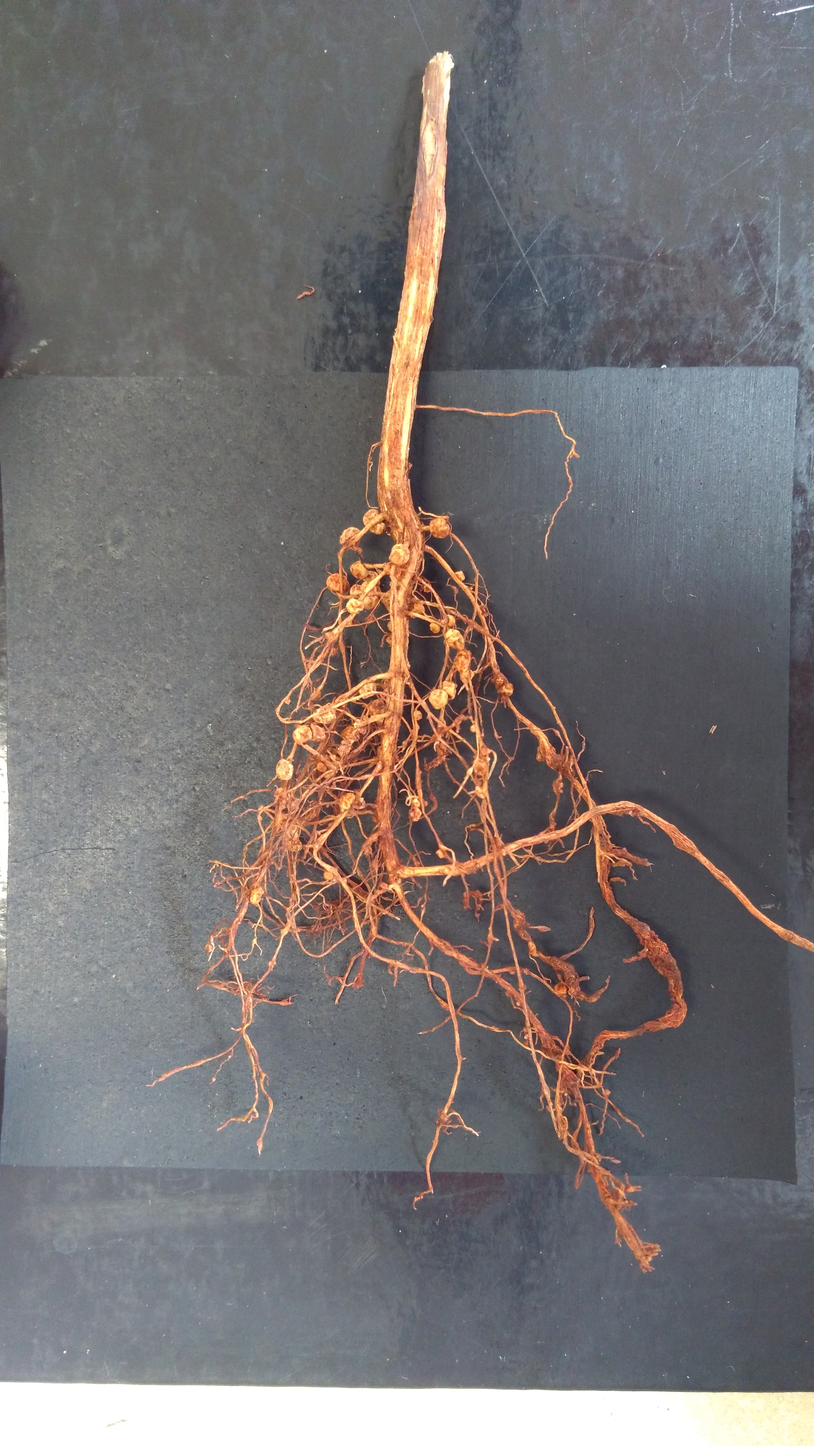nodule: (363, 509, 386, 534), (491, 671, 513, 696), (312, 703, 336, 723), (340, 527, 360, 550), (361, 582, 378, 609), (389, 544, 410, 565), (444, 628, 464, 649), (429, 518, 449, 538), (369, 699, 385, 724), (292, 725, 312, 744), (276, 759, 294, 780), (326, 574, 349, 590), (429, 690, 448, 709), (439, 681, 457, 700), (341, 725, 360, 743), (536, 745, 556, 762), (455, 650, 471, 671), (408, 597, 424, 618), (305, 800, 321, 821), (350, 561, 368, 579), (339, 792, 355, 809), (359, 683, 376, 699), (311, 724, 326, 742), (346, 598, 364, 613), (316, 754, 330, 772), (250, 887, 264, 904), (363, 571, 380, 585), (338, 740, 352, 756), (354, 719, 368, 735), (295, 716, 315, 727), (459, 669, 474, 683), (361, 581, 376, 595), (286, 824, 299, 840), (287, 798, 300, 814), (474, 761, 488, 775), (408, 807, 421, 821), (554, 981, 567, 994), (288, 839, 302, 851), (552, 778, 563, 793), (350, 584, 365, 595), (353, 797, 366, 809), (413, 797, 428, 807), (475, 786, 487, 798), (324, 632, 338, 642), (429, 622, 440, 634), (280, 819, 291, 831), (273, 787, 283, 799), (436, 848, 447, 858), (523, 1027, 532, 1039), (332, 876, 347, 883), (447, 614, 455, 627), (455, 571, 465, 581), (413, 710, 422, 720), (346, 809, 356, 818), (473, 777, 482, 786), (364, 845, 372, 855), (370, 859, 378, 869), (508, 966, 516, 975), (205, 943, 213, 952), (375, 588, 381, 600), (424, 583, 431, 593), (323, 872, 333, 879), (364, 616, 374, 623), (380, 882, 389, 889), (386, 636, 393, 645), (383, 565, 390, 574), (329, 647, 336, 656), (439, 719, 445, 729), (283, 698, 291, 705), (387, 621, 392, 632), (470, 725, 477, 732), (405, 661, 411, 669), (603, 1089, 610, 1095), (413, 861, 420, 867), (257, 805, 263, 811), (269, 961, 276, 966), (329, 755, 336, 760), (402, 740, 406, 745), (517, 1001, 519, 1006), (564, 1093, 567, 1096)
